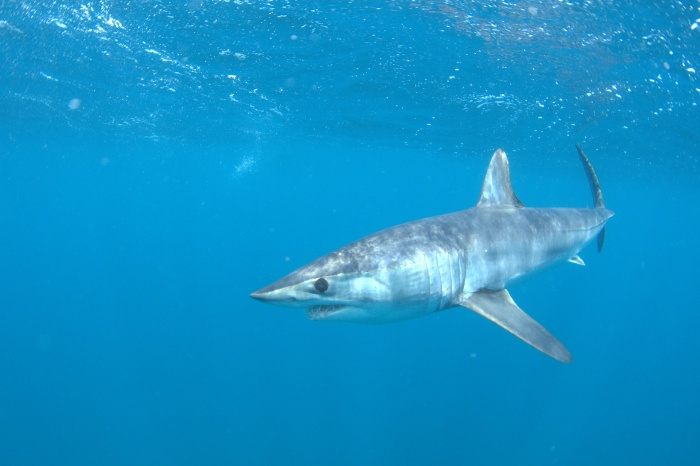Mako: (242, 138, 633, 366)
